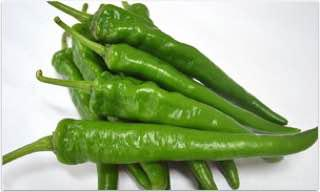lada hijau: (91, 1, 291, 127), (45, 113, 320, 162), (88, 68, 255, 145), (45, 43, 120, 192)
